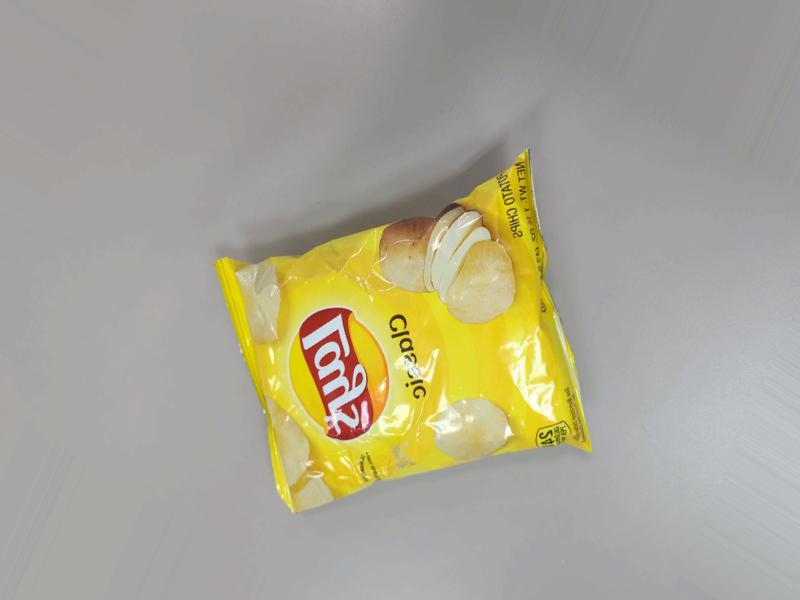lays: (245, 165, 607, 511)
